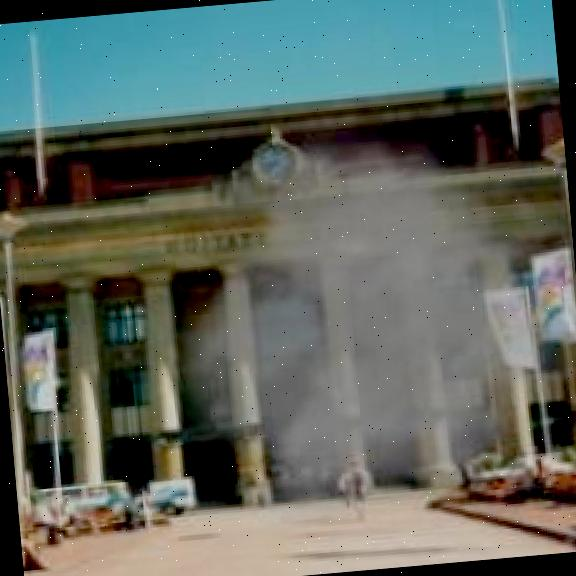smoke: (146, 81, 576, 534)
